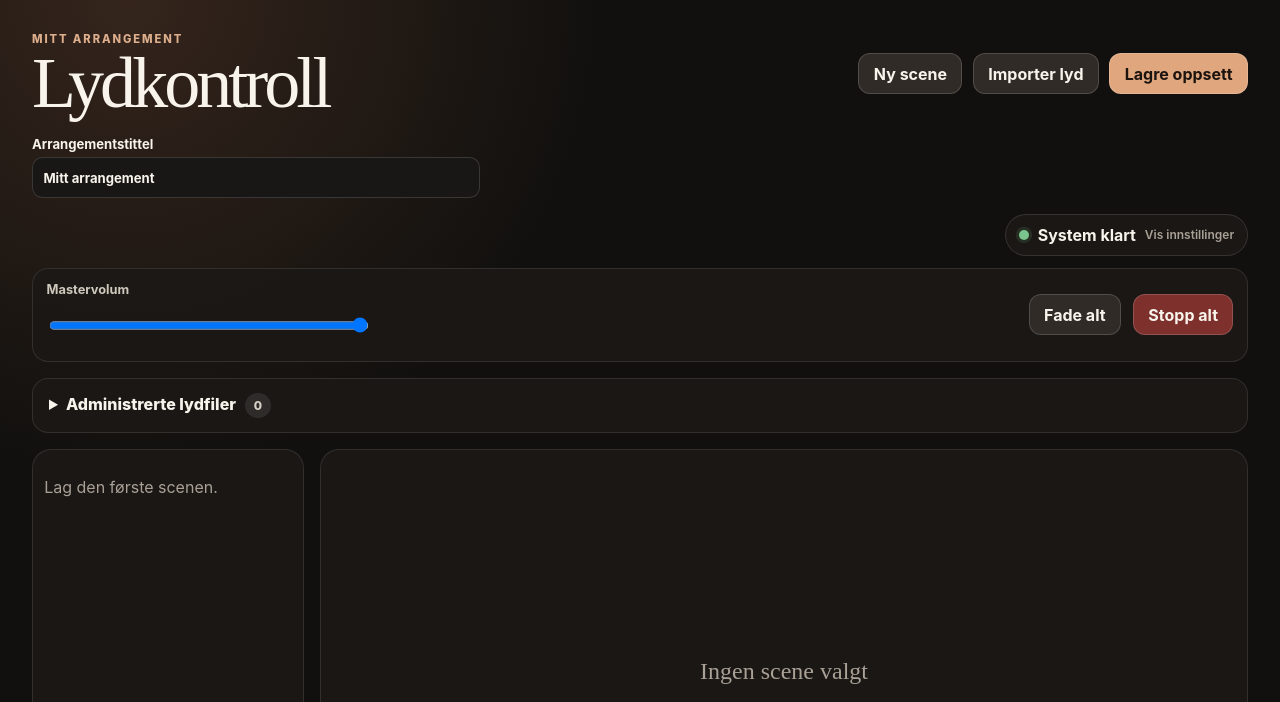
keeps ready preflight details collapsed until requested
Expected: the heading "Preflight" is not shown
Step 1. Click the button "System klart Vis innstillinger" → (1126, 235), box [1005,214,1248,256]
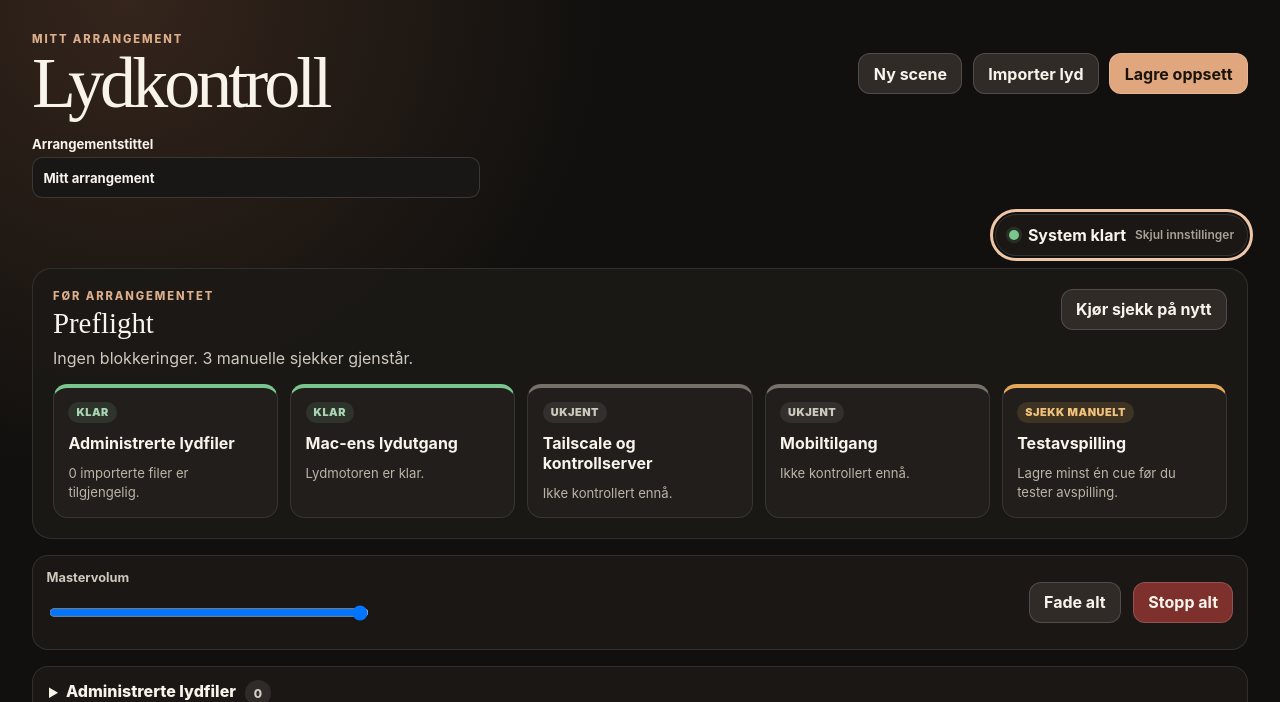
Result: the button named "System klart Vis innstillinger" is expanded
Result: the heading "Preflight" is shown at [53,307,154,339]
Step 2. Click the button named "System klart Vis innstillinger" → (1121, 235), box [995,214,1248,256]
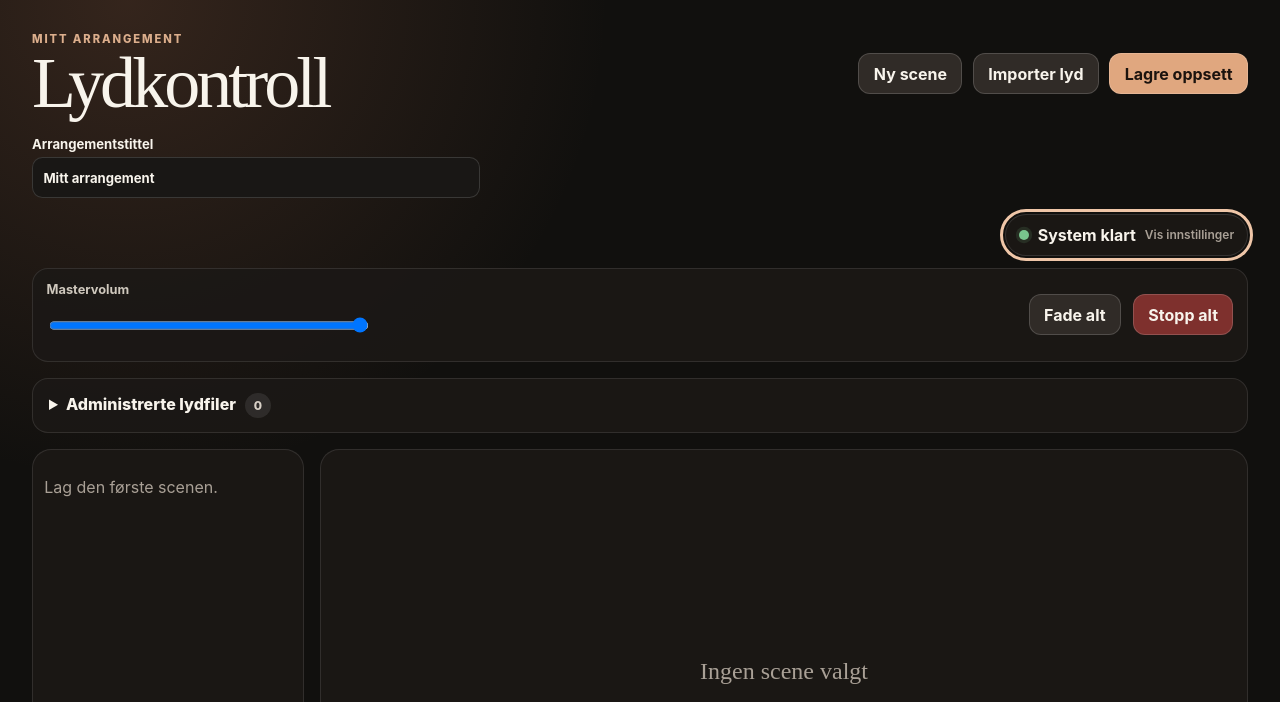
Result: the heading "Preflight" is gone
